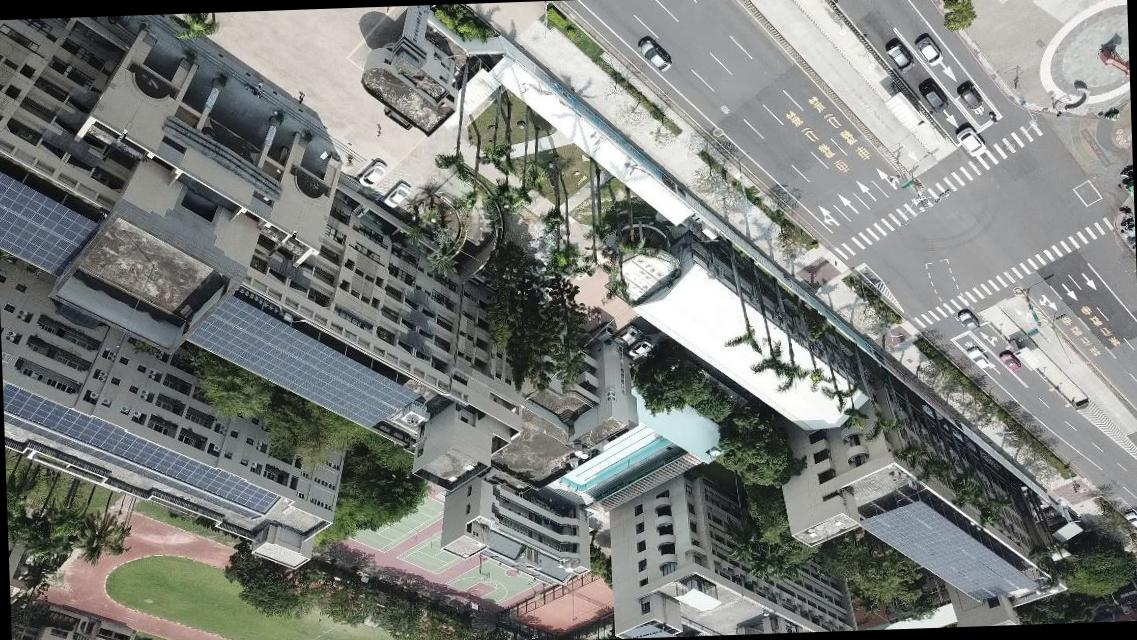vehicle: (638, 36, 671, 72), (954, 124, 984, 156), (919, 77, 945, 111), (355, 157, 386, 185), (916, 33, 942, 65), (886, 38, 910, 71), (383, 180, 408, 208), (958, 80, 980, 110), (586, 324, 613, 344), (956, 308, 978, 332), (626, 339, 650, 359), (613, 324, 637, 344), (996, 349, 1018, 370), (965, 348, 987, 368), (1121, 510, 1136, 529)
